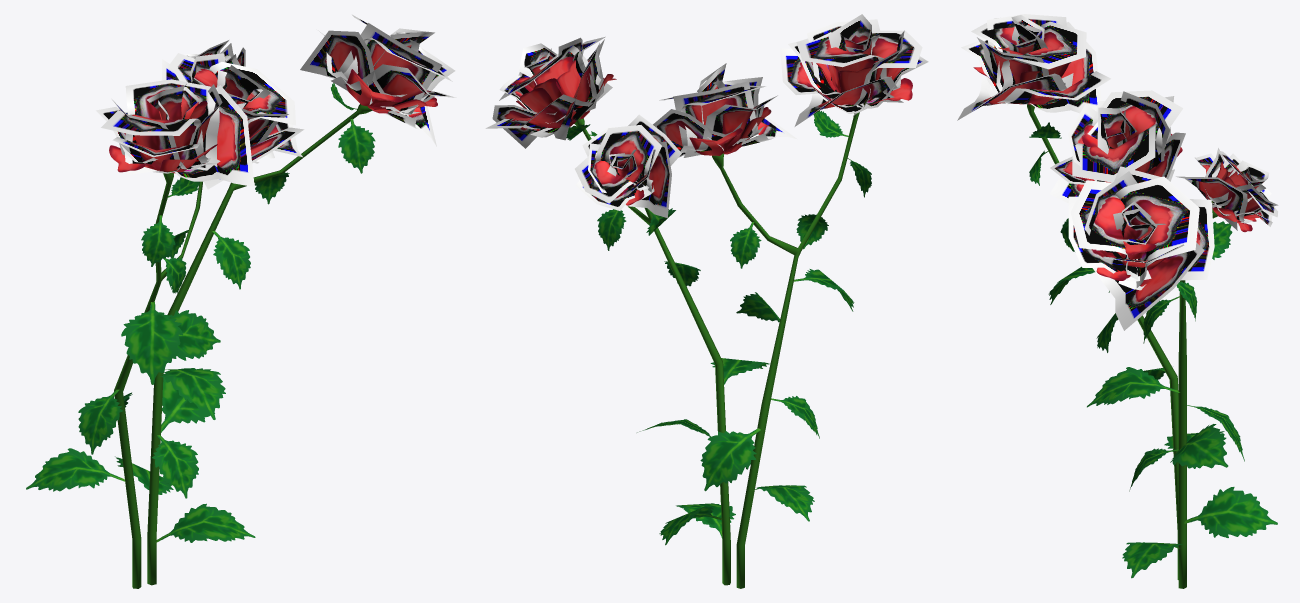
The model's file is Roses 2.fbx.
3 views of the same model, side by side, from view 1: azimuth 30°, elevation 25°; view 2: azimuth 150°, elevation 25°; view 3: azimuth 270°, elevation 25° (orthographic). The views are drawn at different scales.
Visible parts, largest first — view 1: Roses 2; view 2: Roses 2; view 3: Roses 2.
Boxes of the visible parts, x1,y1,x2,y2 form: Roses 2: [26, 14, 456, 588]; Roses 2: [485, 14, 928, 588]; Roses 2: [957, 14, 1278, 588].
Size of the model in its own units: 74.26 by 103 by 56.79.
